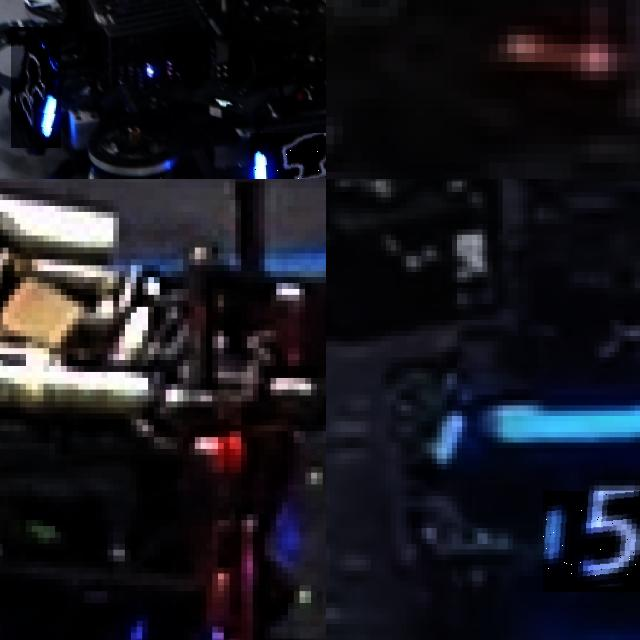B5: (543, 490, 640, 592)
Bs: (11, 27, 61, 148), (250, 133, 326, 179)
